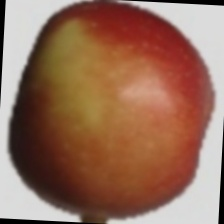apple: (55, 43, 210, 187)
